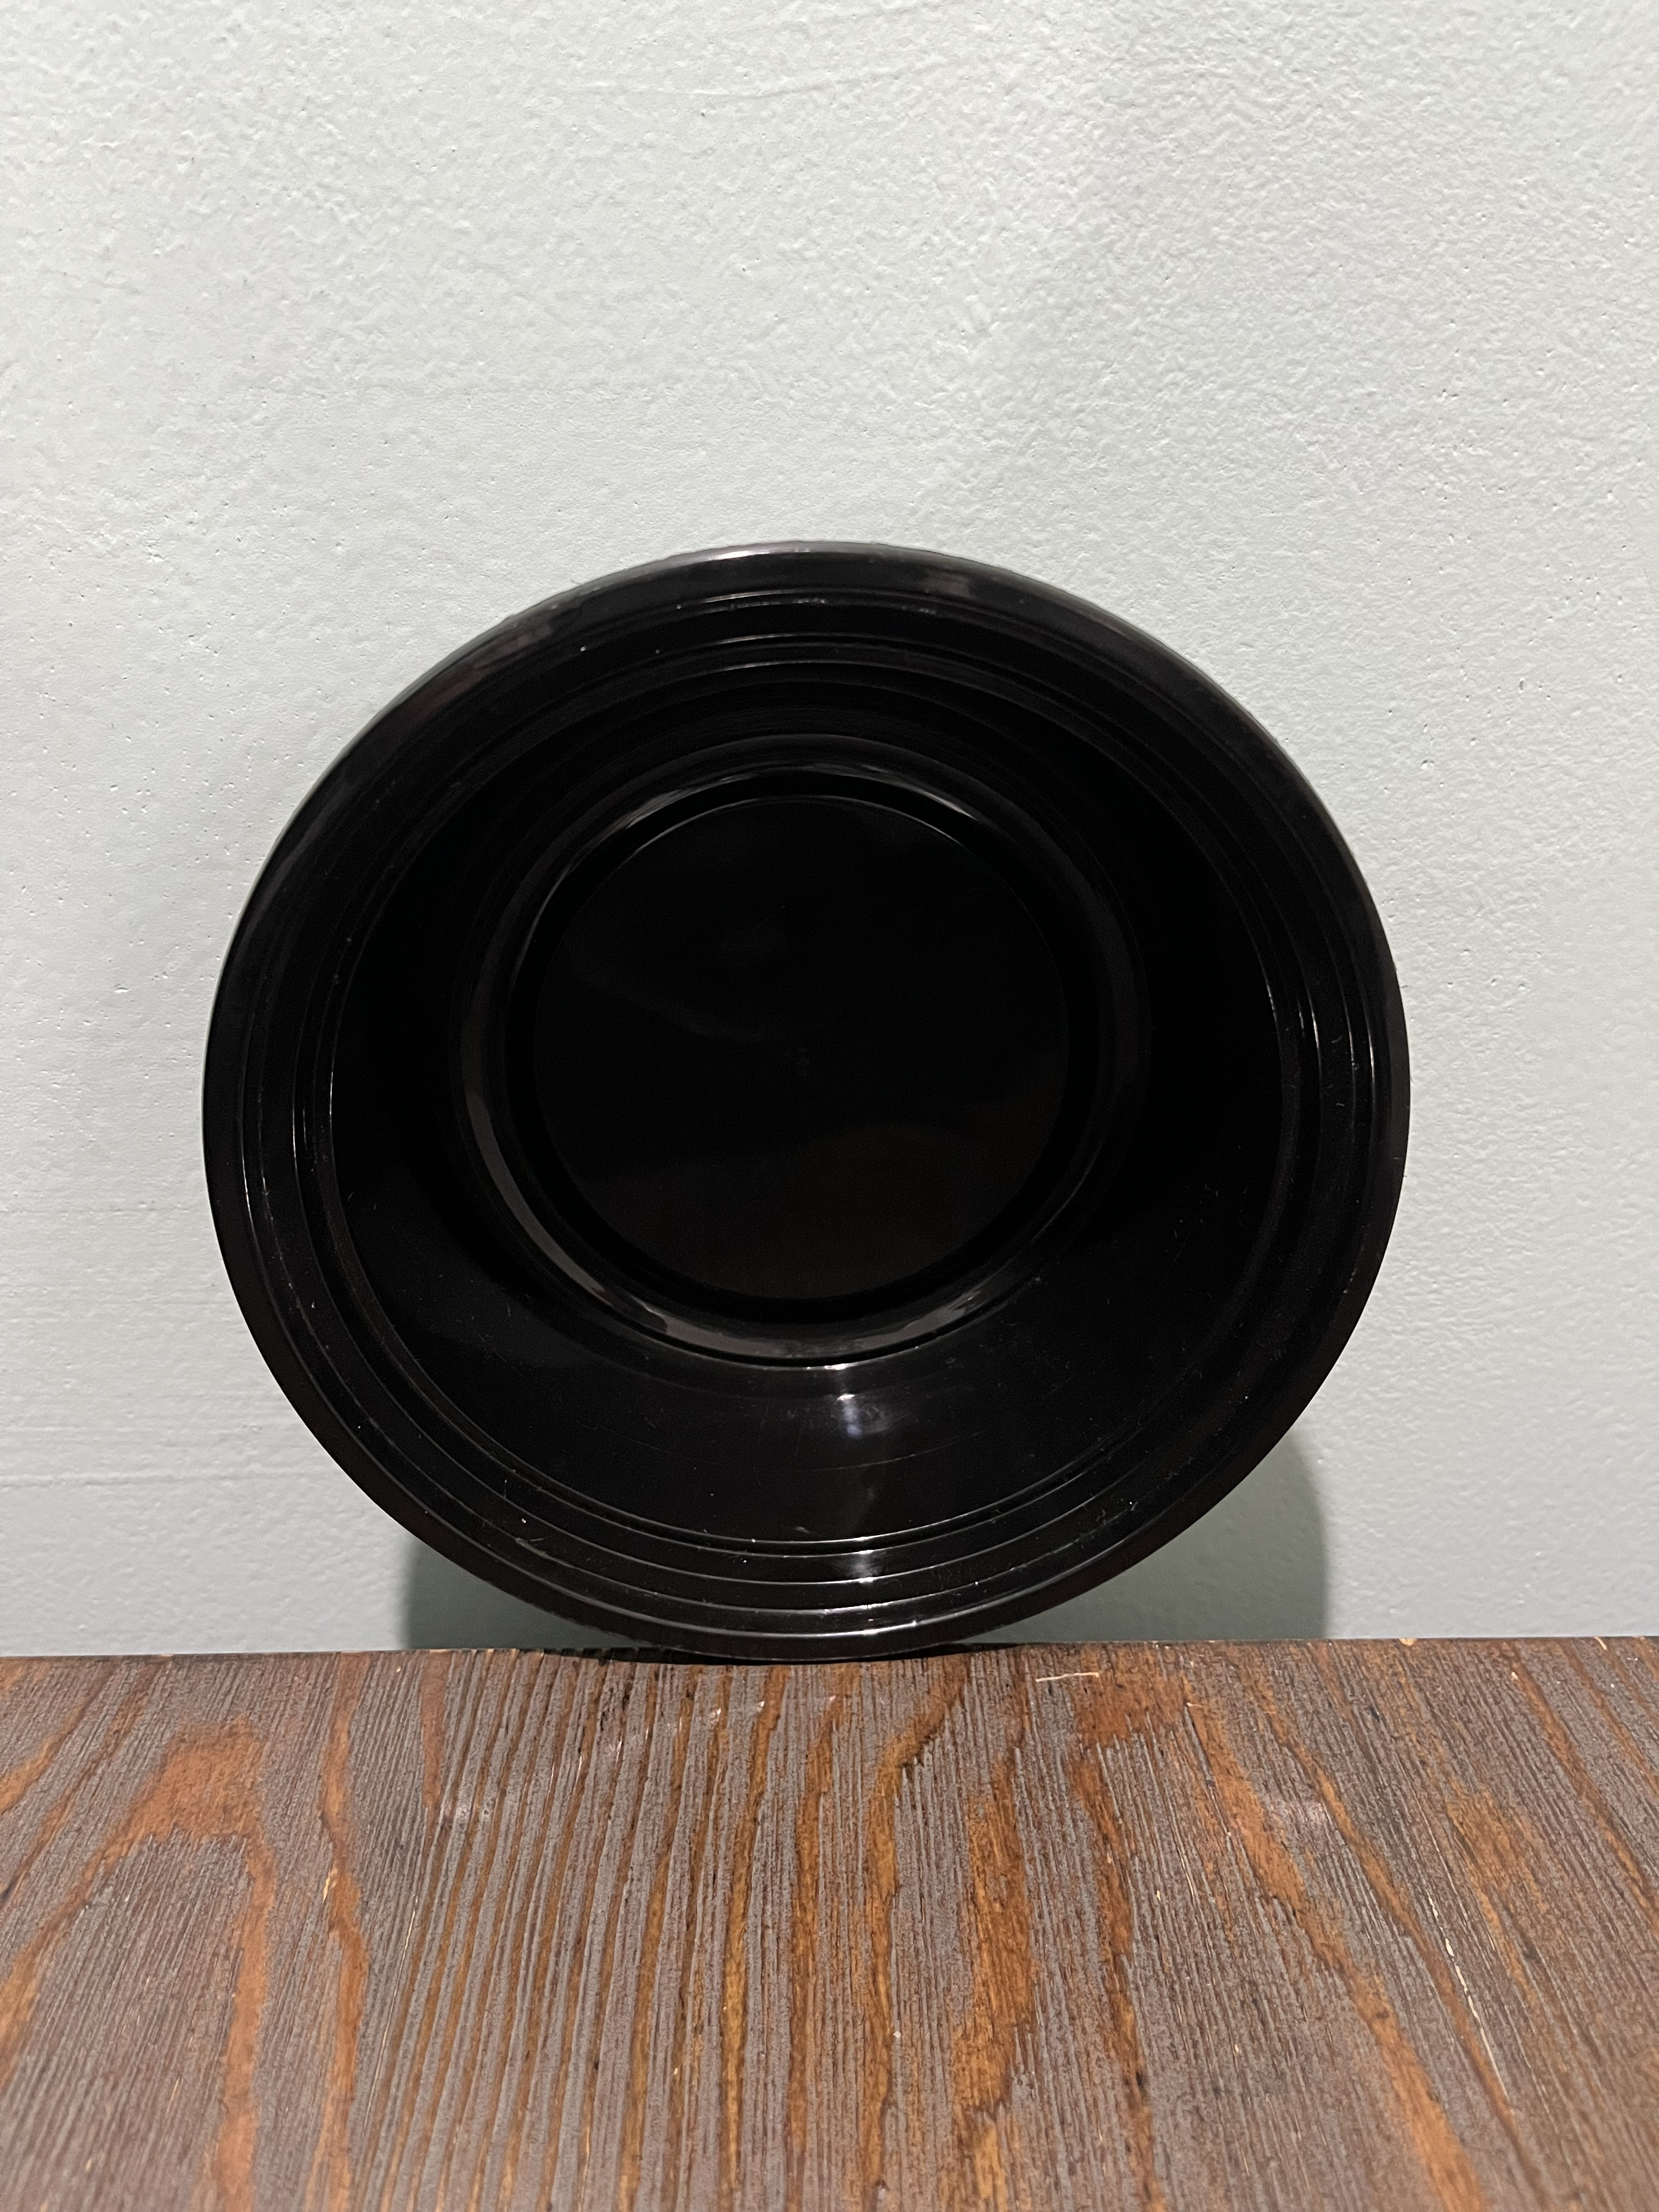plastic: (185, 519, 1429, 1655)
